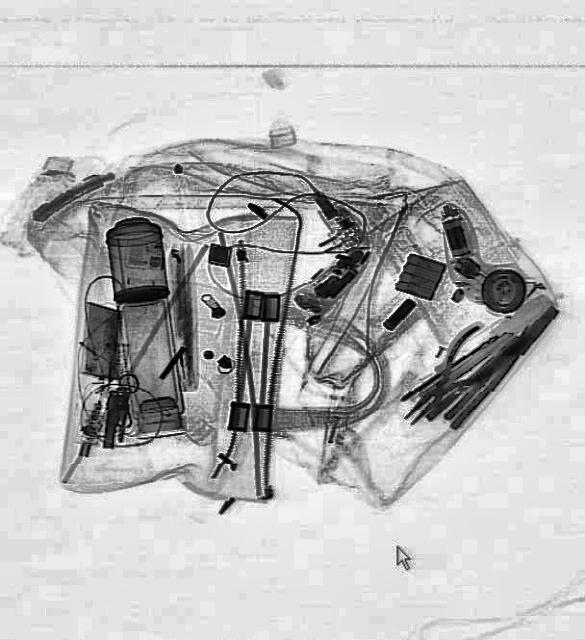Pliers: (391, 320, 505, 434)
